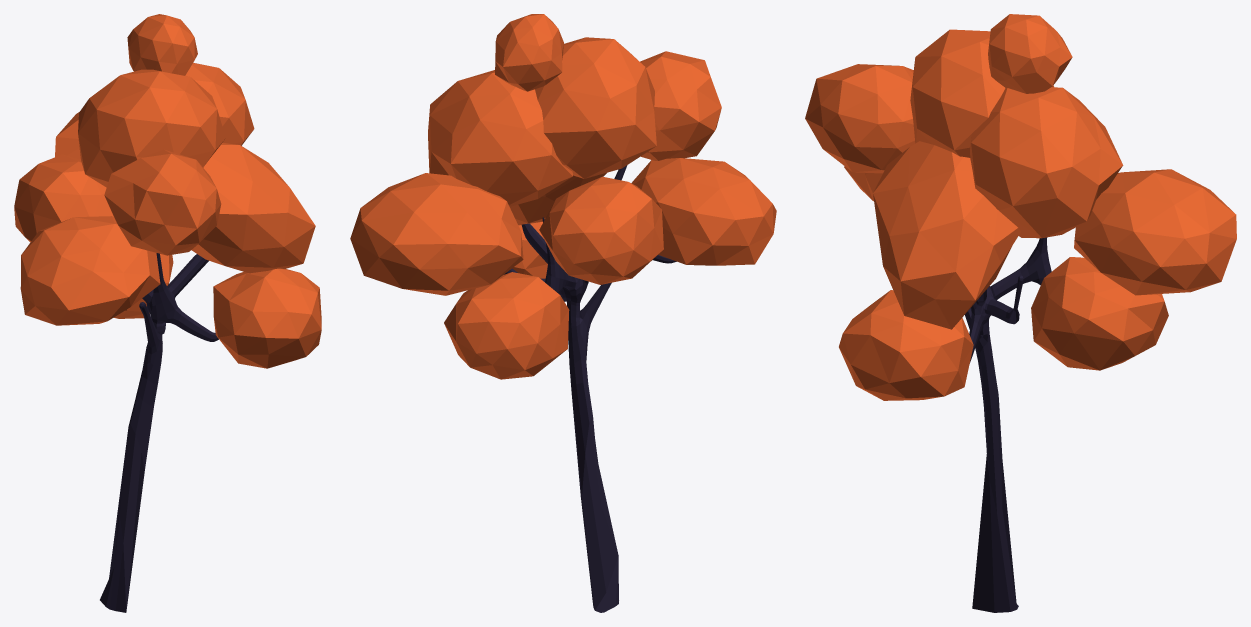
File: env_tree_type1.fbx
3 renders of one model, left to right at view 1: azimuth 30°, elevation 25°; view 2: azimuth 150°, elevation 25°; view 3: azimuth 270°, elevation 25°, orthographic. The views are drawn at different scales.
Parts seen in each view (by area): view 1: leaves 1, trunk 1; view 2: leaves 1, trunk 1; view 3: leaves 1, trunk 1.
Boxes of the visible parts, box(x1,y1,x2,y2) form: leaves 1: box(14, 14, 321, 368); trunk 1: box(100, 253, 218, 612); leaves 1: box(350, 14, 776, 379); trunk 1: box(504, 165, 676, 612); leaves 1: box(805, 14, 1236, 400); trunk 1: box(965, 237, 1051, 612).
Size of the model in its own units: 7135 by 13374 by 8386.
